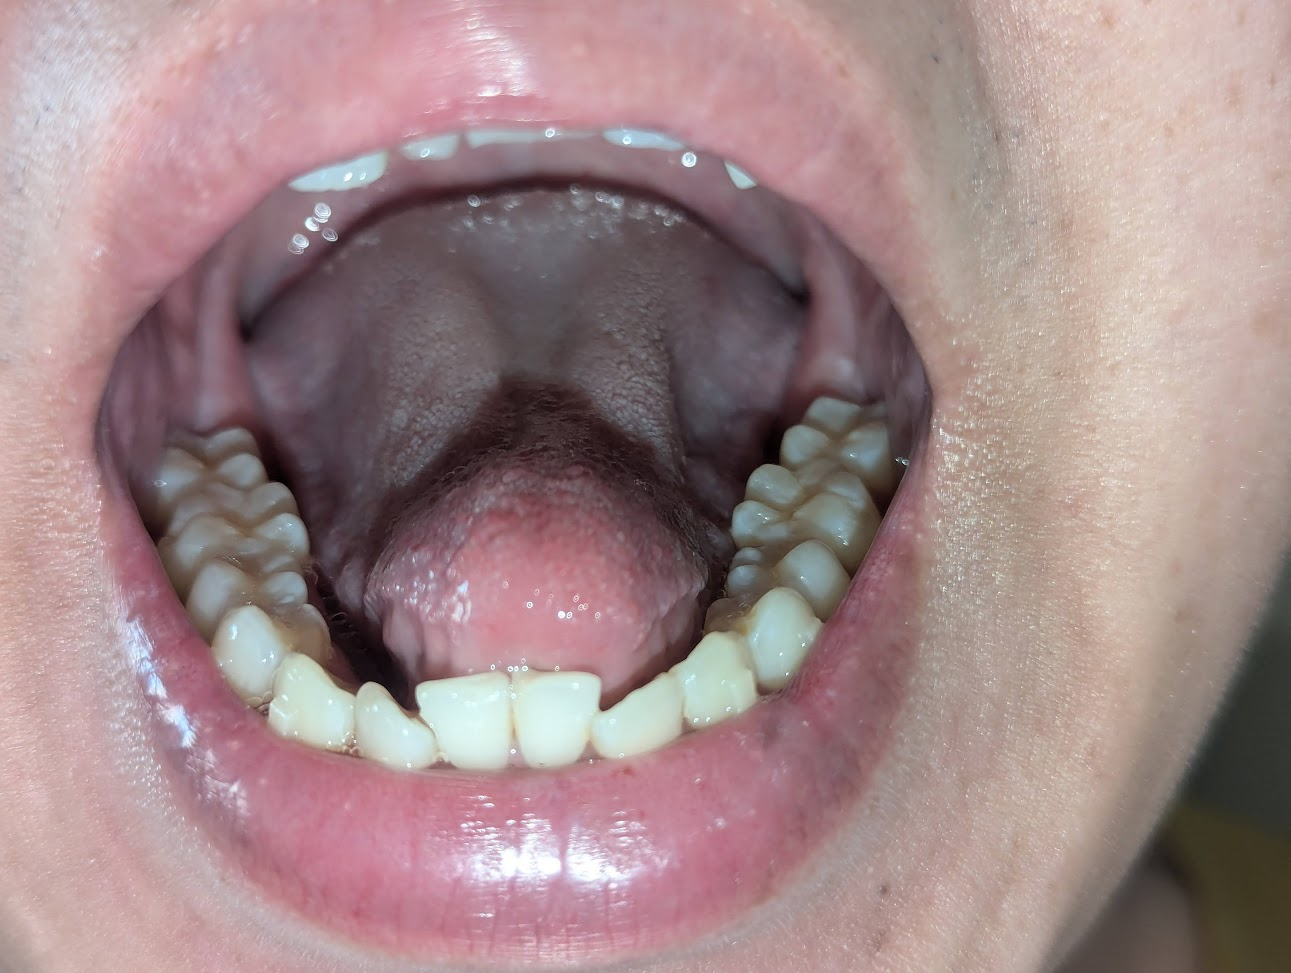teeth: (714, 590, 822, 679), (735, 529, 852, 606), (218, 605, 317, 694), (421, 675, 508, 768), (186, 484, 304, 552), (740, 461, 859, 524), (514, 675, 594, 766), (678, 637, 763, 721), (595, 678, 683, 755), (354, 684, 441, 761), (270, 659, 351, 742), (173, 421, 264, 481), (792, 398, 886, 450), (214, 560, 301, 602)
